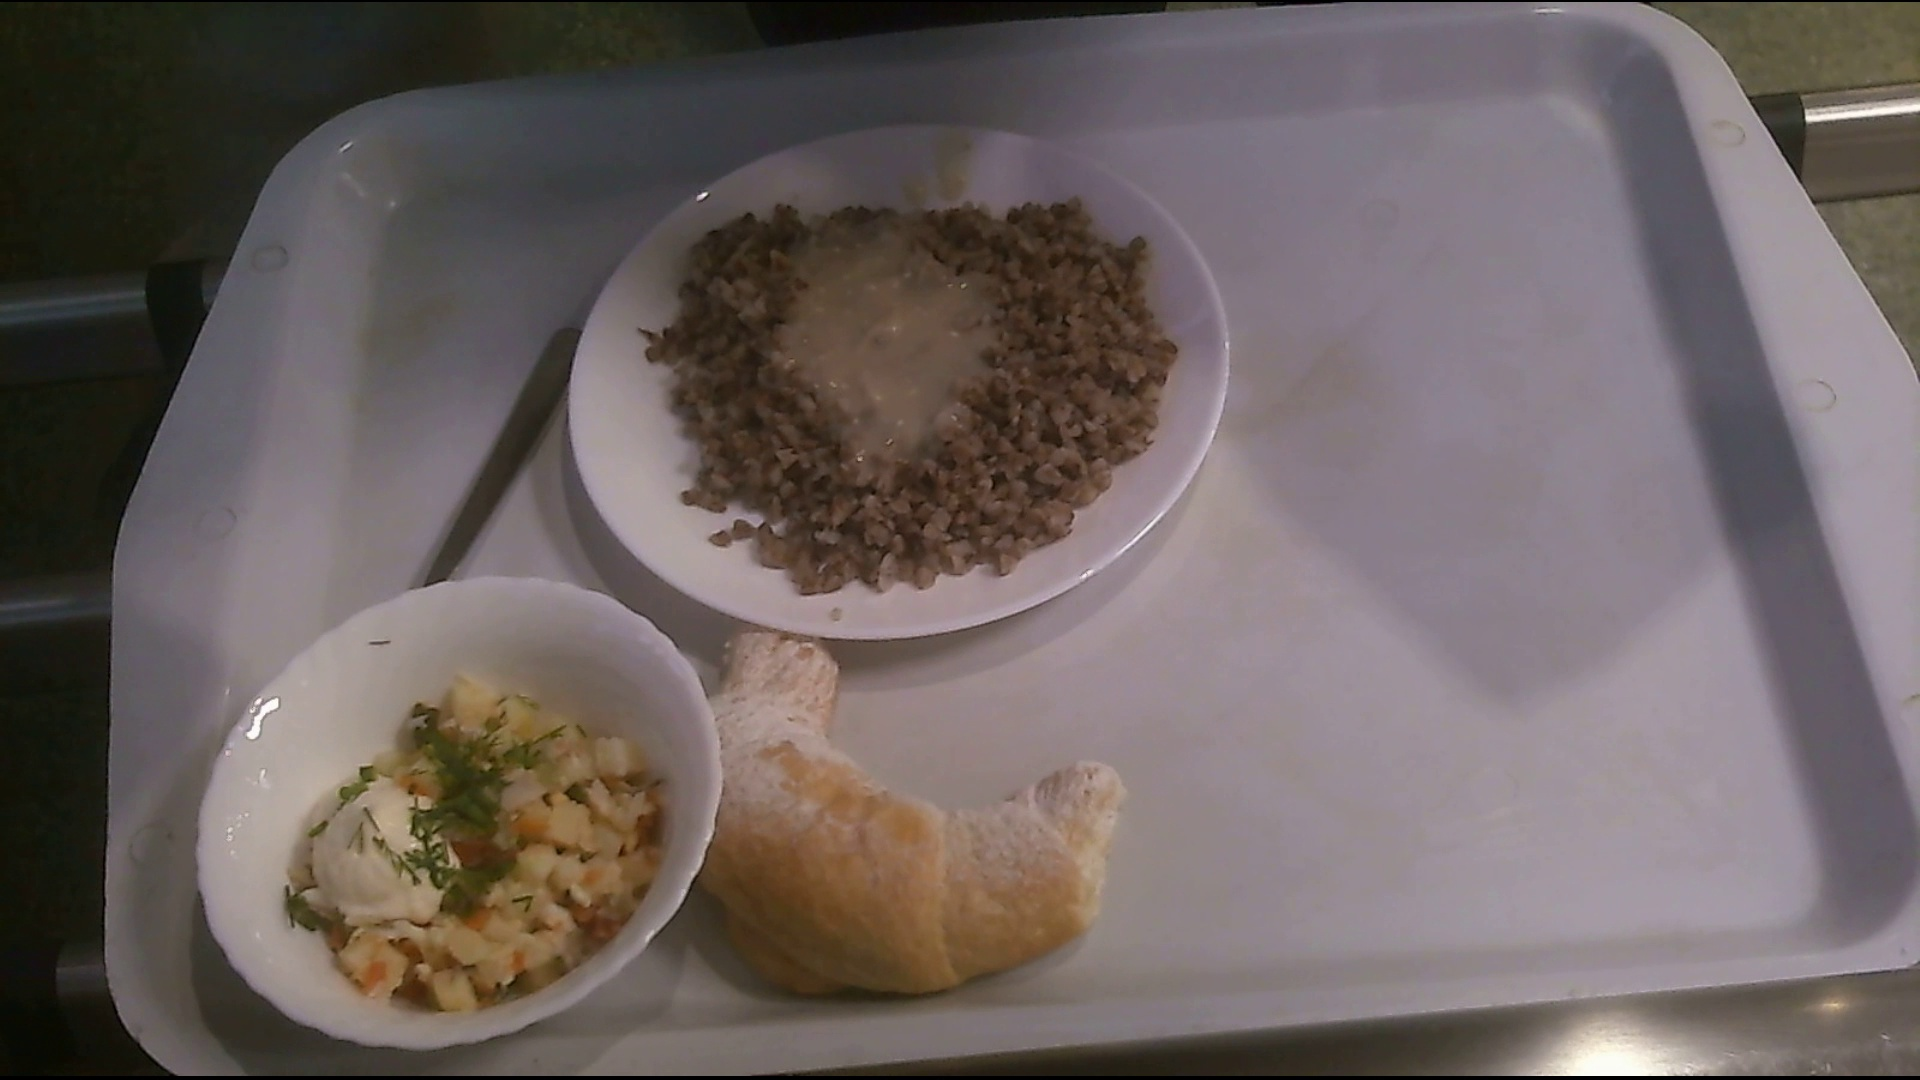other: (193, 567, 723, 1076), (680, 624, 1125, 1006)
plate: (549, 136, 1229, 649)
